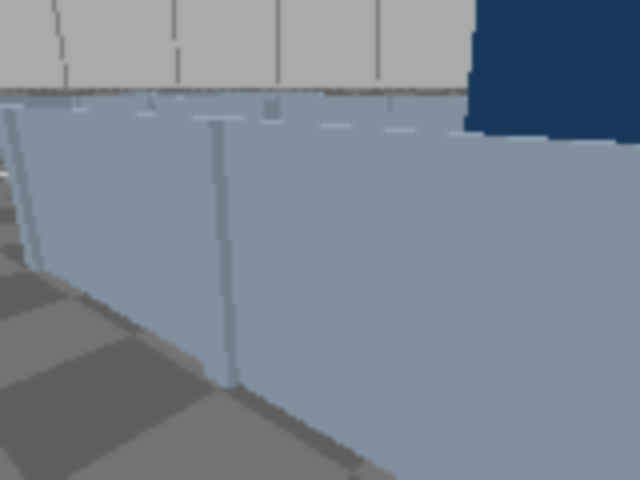person: (456, 0, 638, 402)
